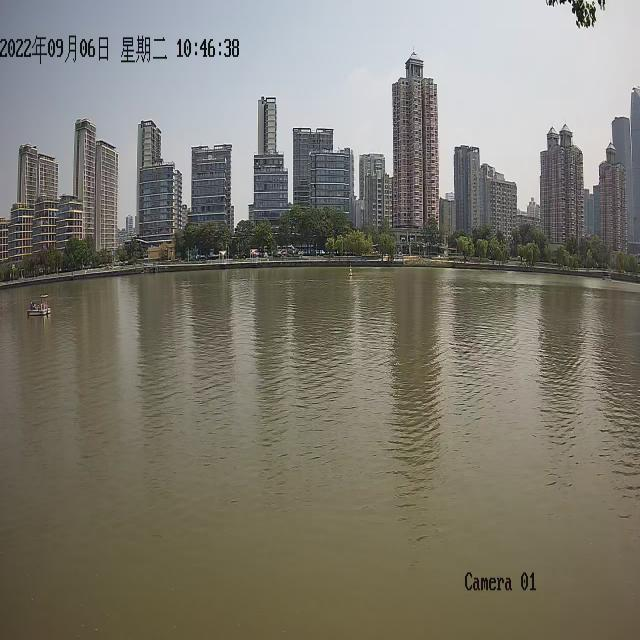ship: (27, 293, 50, 315), (602, 272, 612, 280)
